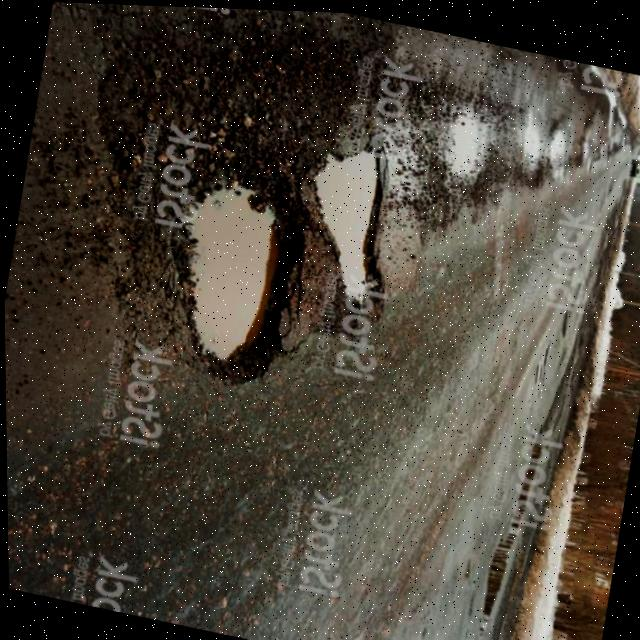Pothole: (124, 133, 318, 392), (473, 300, 581, 640), (304, 119, 431, 333), (427, 99, 508, 209), (515, 80, 586, 179), (498, 96, 563, 189)
